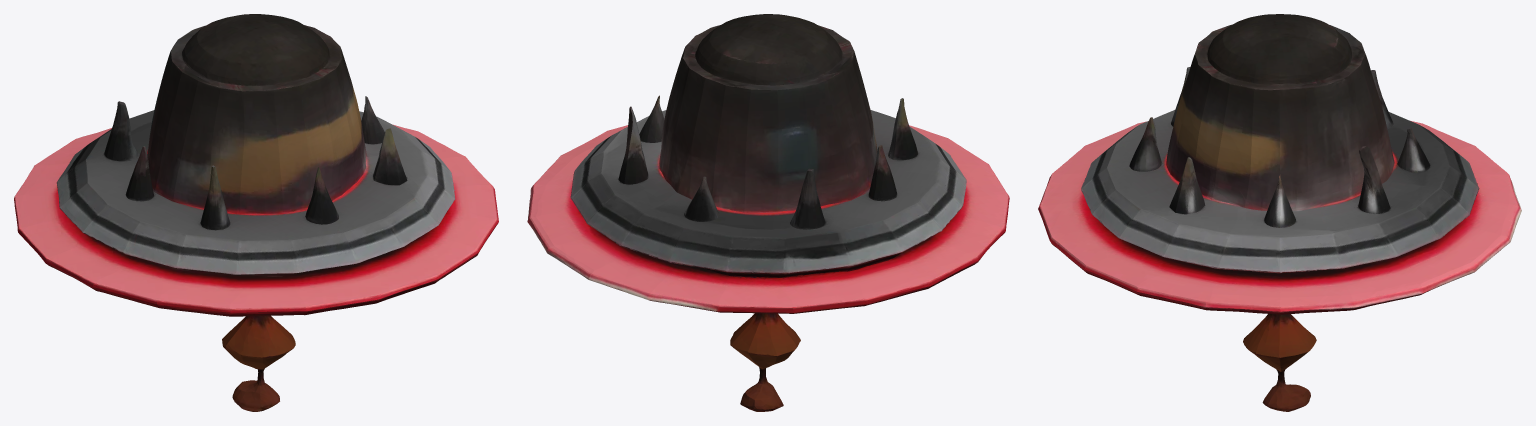
Rendered from 3deditformer_t04.glb.
3 views of the same model, side by side, from view 1: azimuth 30°, elevation 25°; view 2: azimuth 150°, elevation 25°; view 3: azimuth 270°, elevation 25° (orthographic).
Visible parts, largest first — view 1: geometry_0; view 2: geometry_0; view 3: geometry_0.
Boxes of the visible parts, box(x1,y1,x2,y2) form: geometry_0: box(14, 14, 498, 411); geometry_0: box(527, 14, 1009, 411); geometry_0: box(1038, 14, 1521, 411).
Size of the model in its own units: 2 by 1.73 by 2.
Materials: 1 (1 with a texture image).
